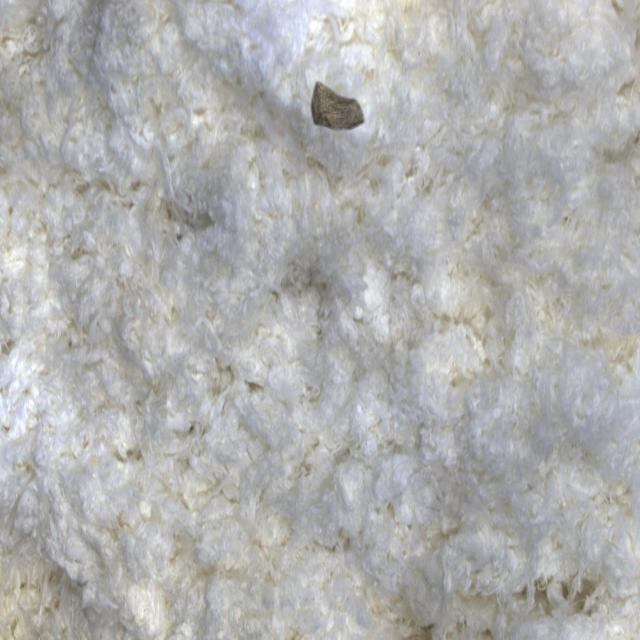dust: (275, 15, 396, 183)
